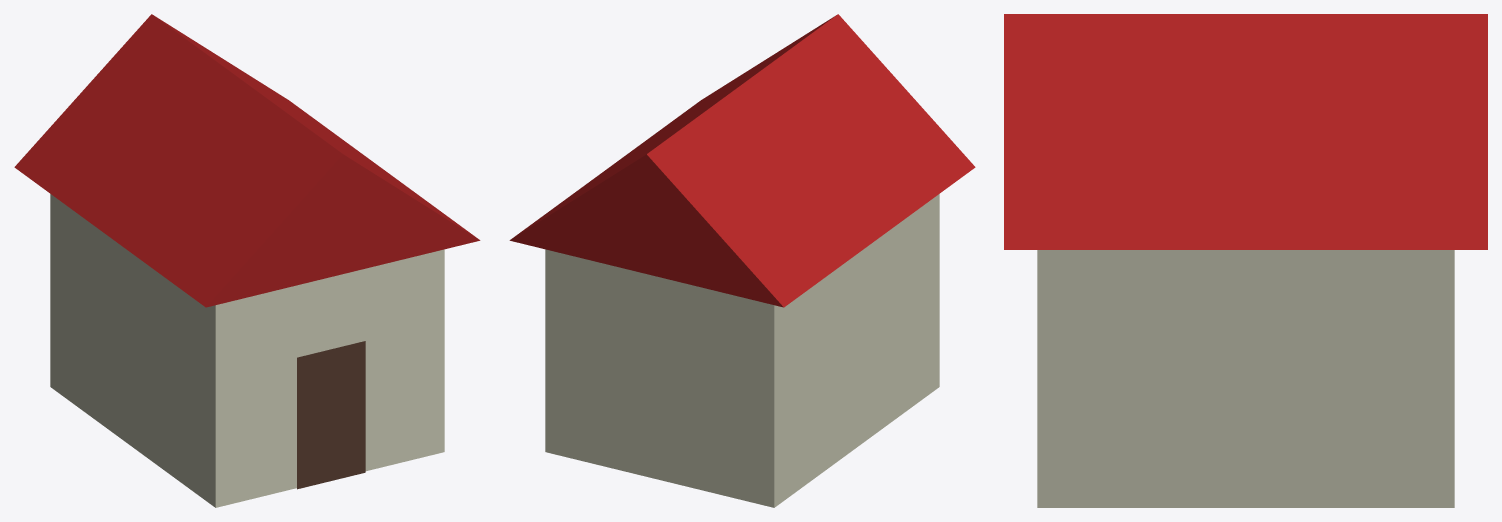
File: cabin.obj
The picture shows the model from 3 angles, left to right: view 1: azimuth 30°, elevation 25°; view 2: azimuth 150°, elevation 25°; view 3: azimuth 270°, elevation 25°; orthographic projection. The views are drawn at different scales.
Visible parts, largest first — view 1: cabin; view 2: cabin; view 3: cabin.
Part boxes in pixels (bbox=[...]): cabin: bbox=[14, 14, 480, 507]; cabin: bbox=[509, 14, 975, 507]; cabin: bbox=[1004, 14, 1487, 507].
Size of the model in its own units: 2.4 by 2.8 by 2.9.
